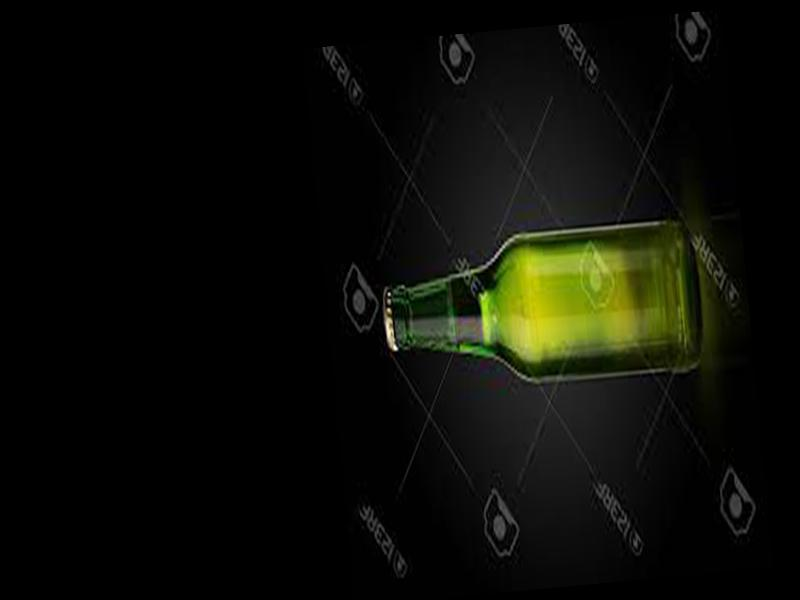Beer: (376, 214, 703, 393)
